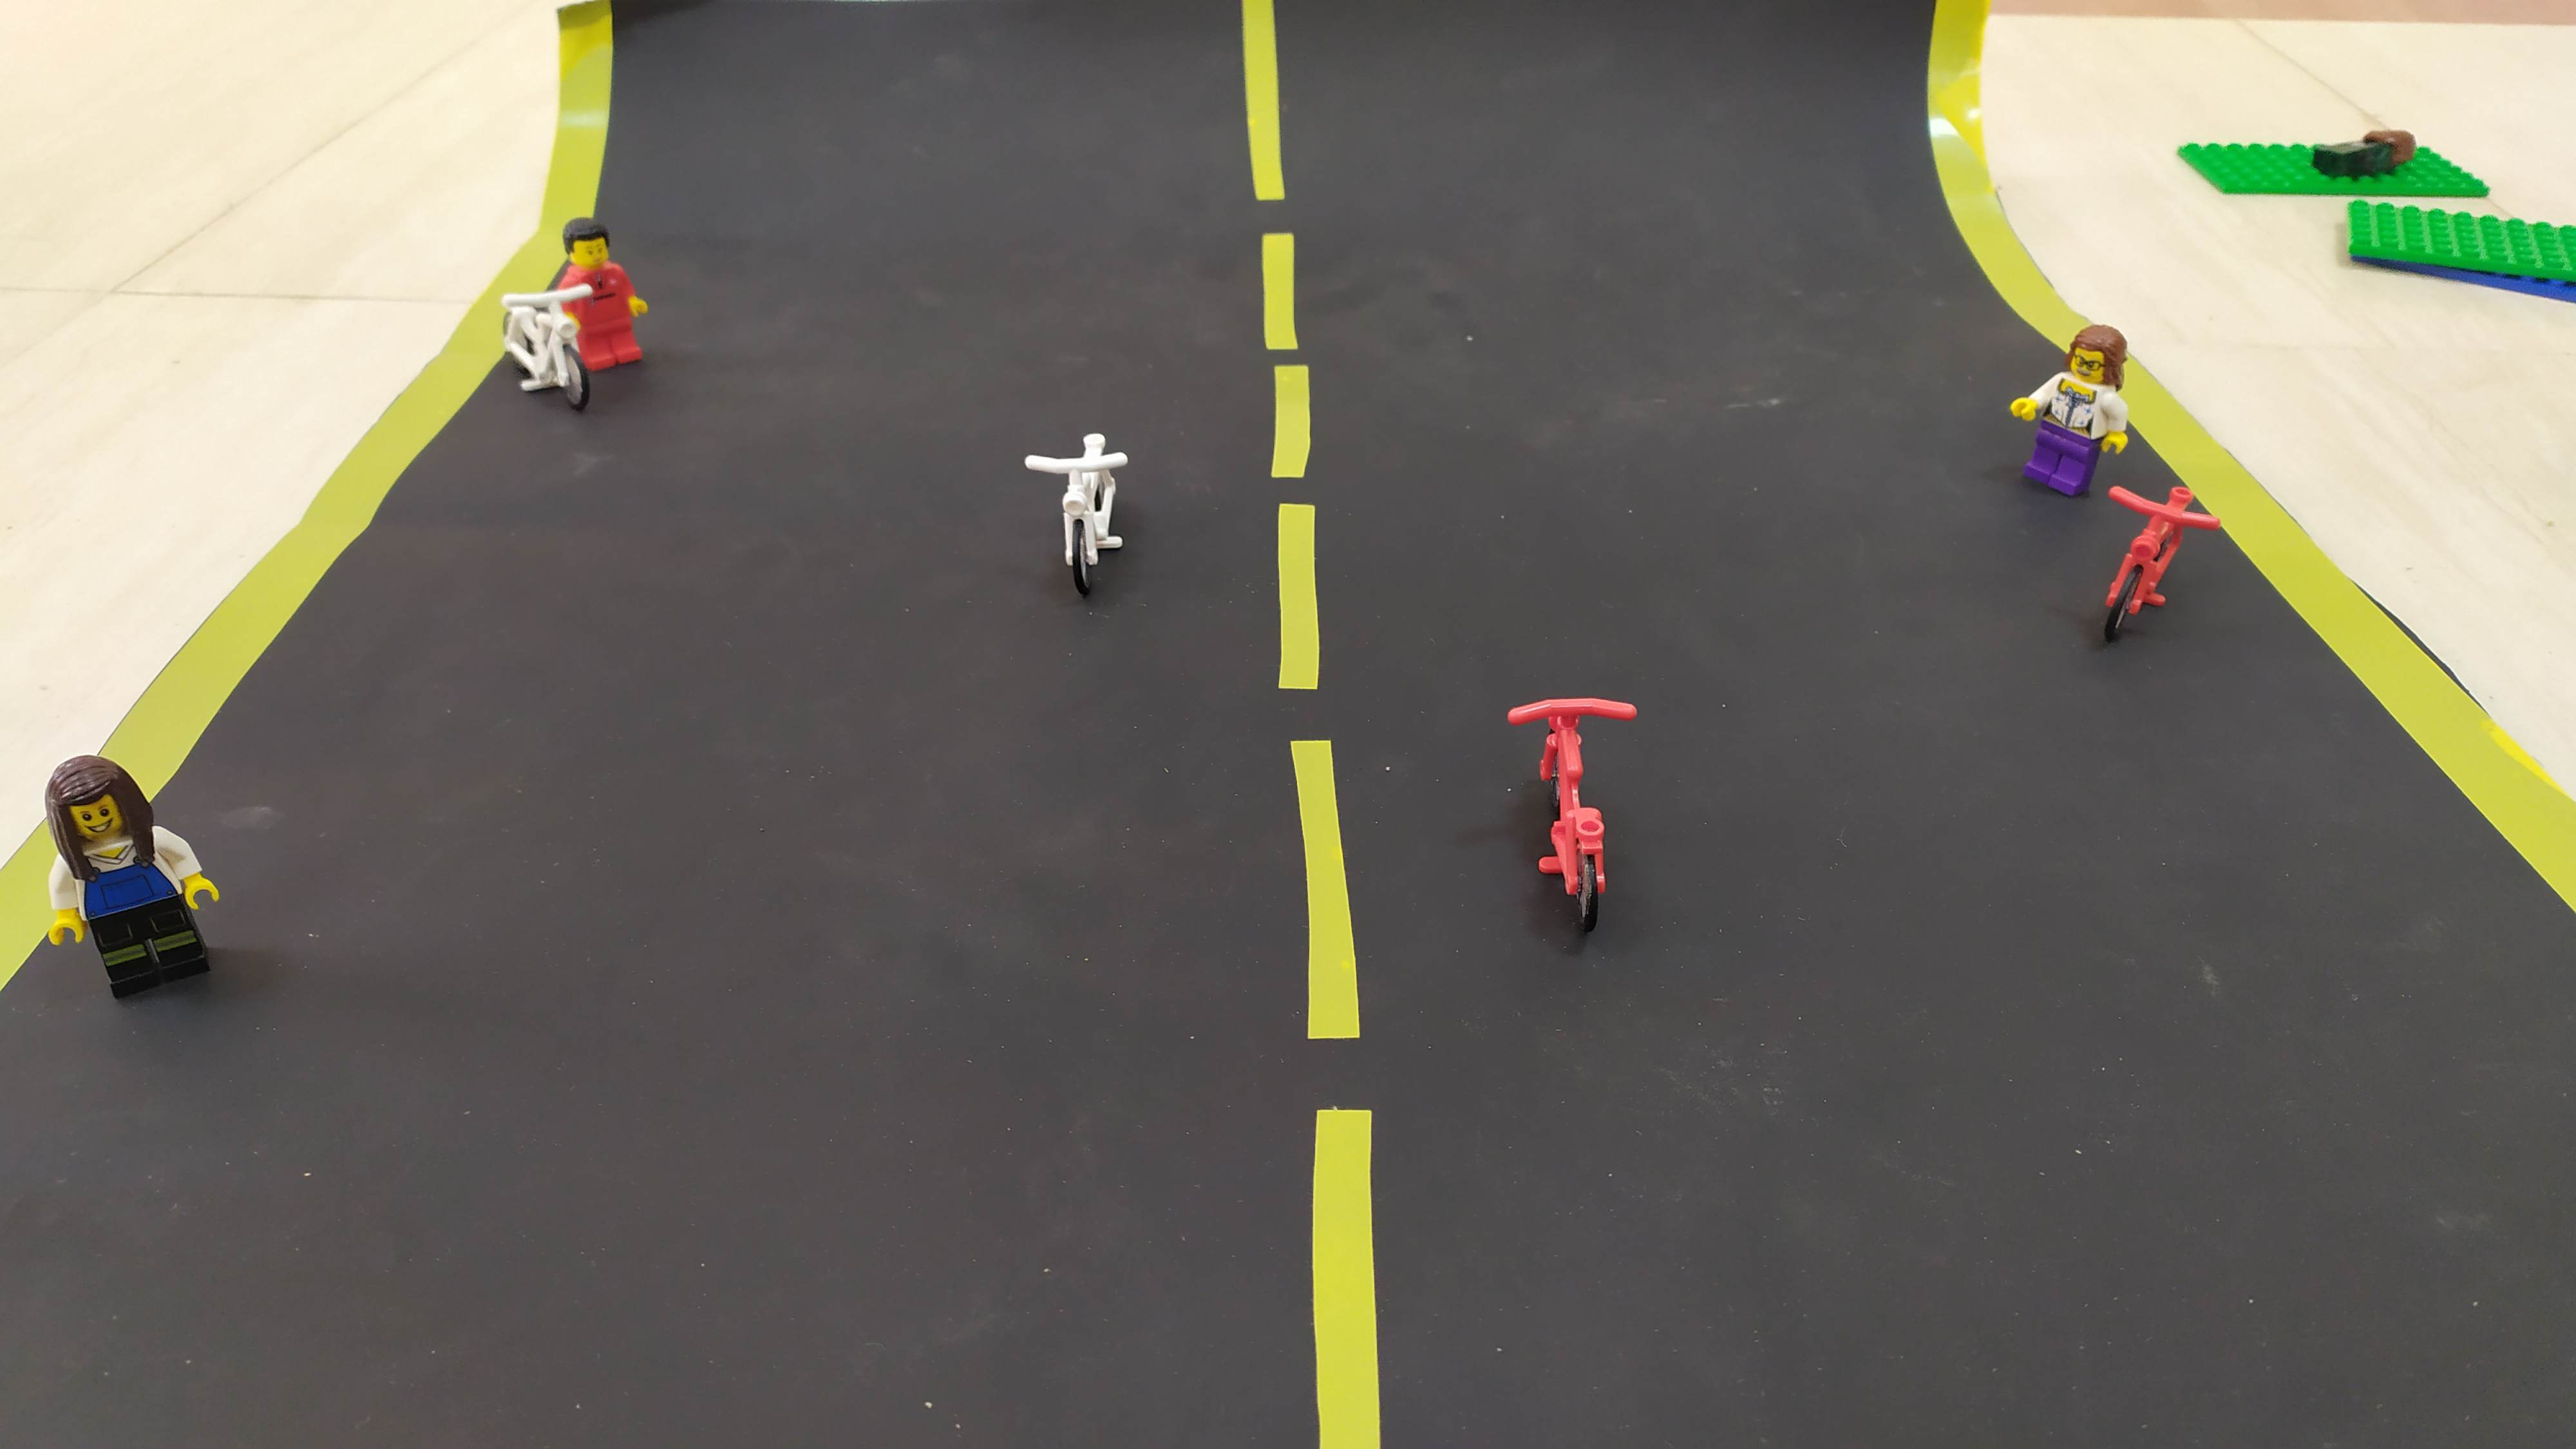Person: (42, 750, 248, 1034), (2006, 299, 2148, 512), (551, 203, 673, 383)
